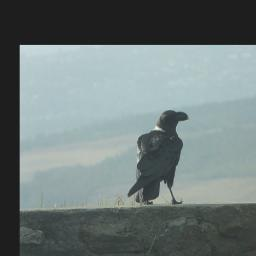Crow: (127, 109, 191, 205)
